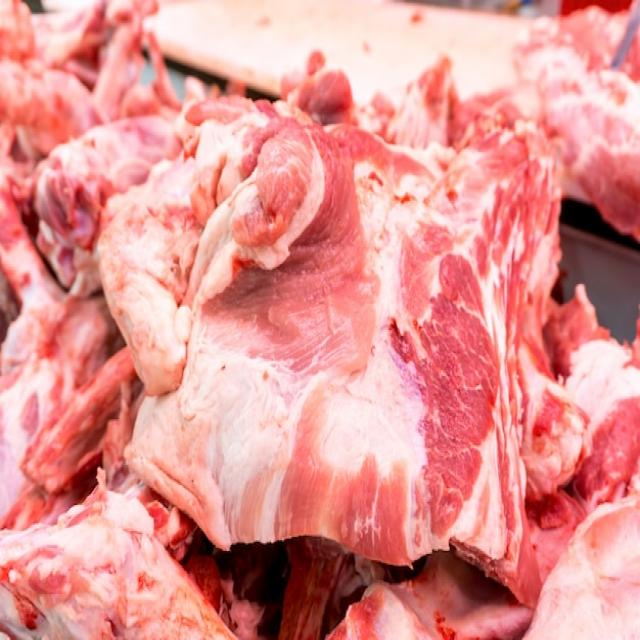Pork: (202, 114, 562, 564)
